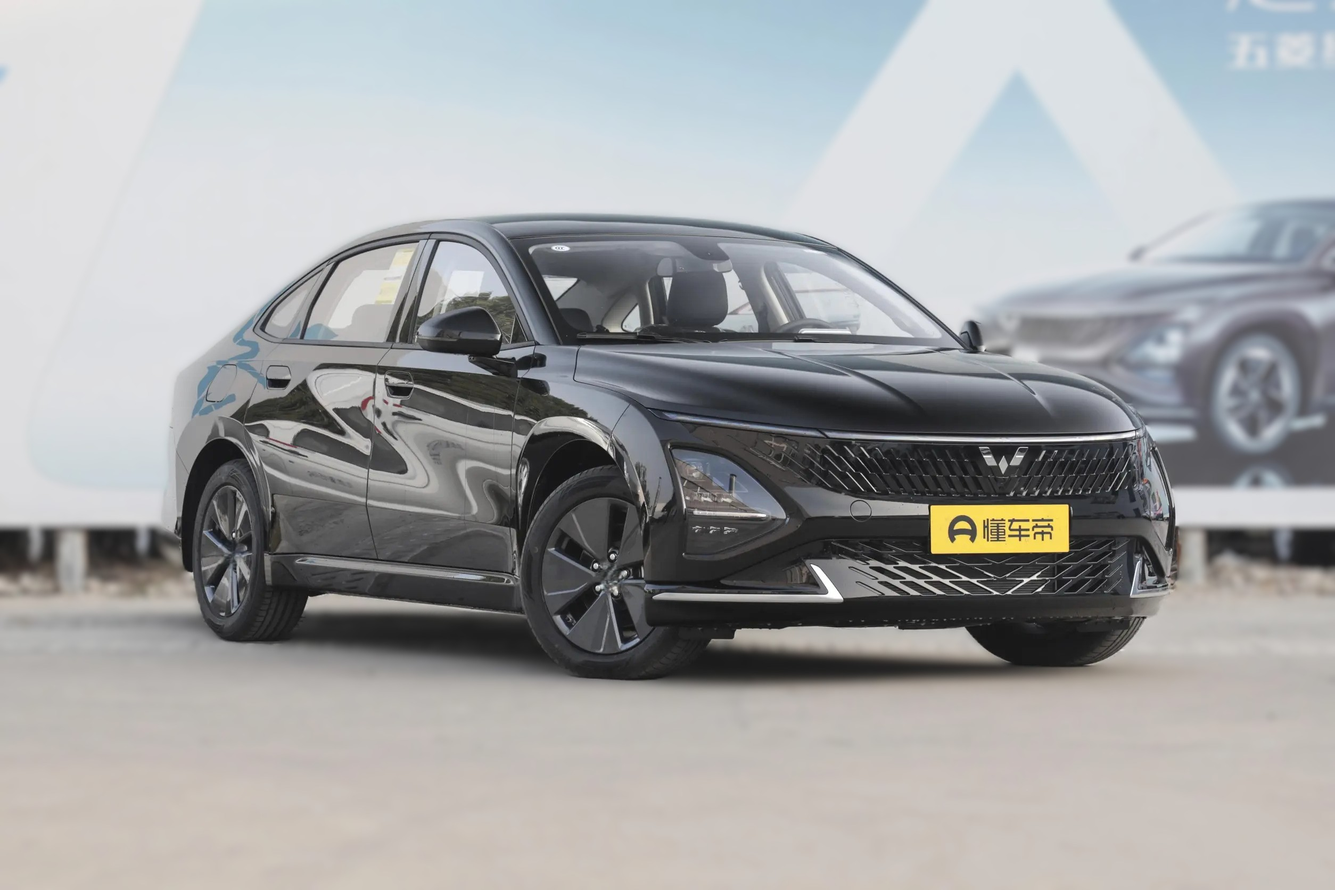SGMW: (979, 447, 1028, 474)
